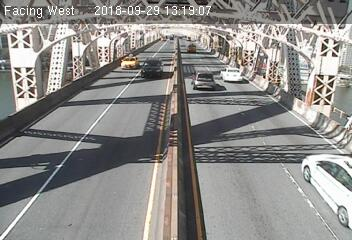car: (294, 149, 352, 226), (188, 68, 218, 94), (219, 65, 245, 86), (138, 58, 166, 77), (117, 54, 140, 68), (187, 43, 200, 56), (159, 34, 169, 44)
